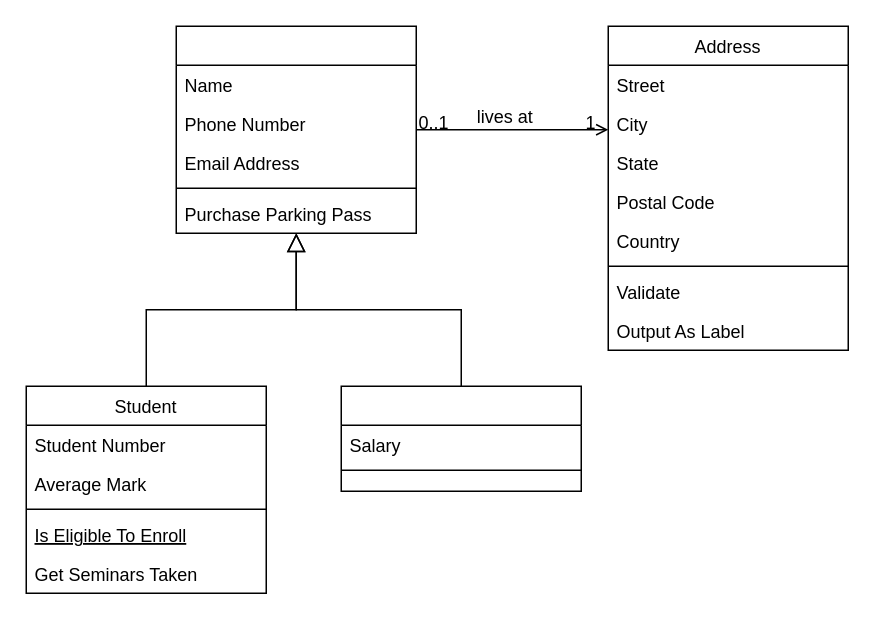
This 875x624 diagram has some shape labels left out. The shapes that lost their labels are listed below. From the top down, each one's box as (x1, y1, x2, y2) in pixels, then its label:
(175, 25, 416, 233): Borrower
(340, 385, 581, 491): Professor
